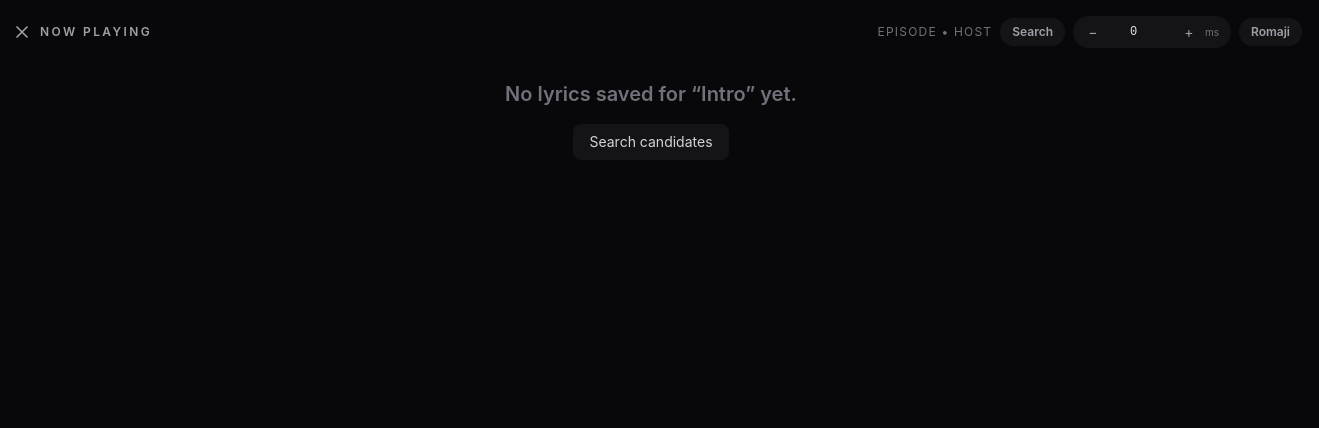
LyricsSheet chapter save flow › shows the saved lyrics even when the fetch keeps failing
This screenshot has width=1319, height=428.
Expected: the text "No lyrics saved for “Intro” yet." is shown, [505, 80, 797, 108]
Click the button "Search candidates".
click(651, 142)  # box [574, 124, 729, 160]
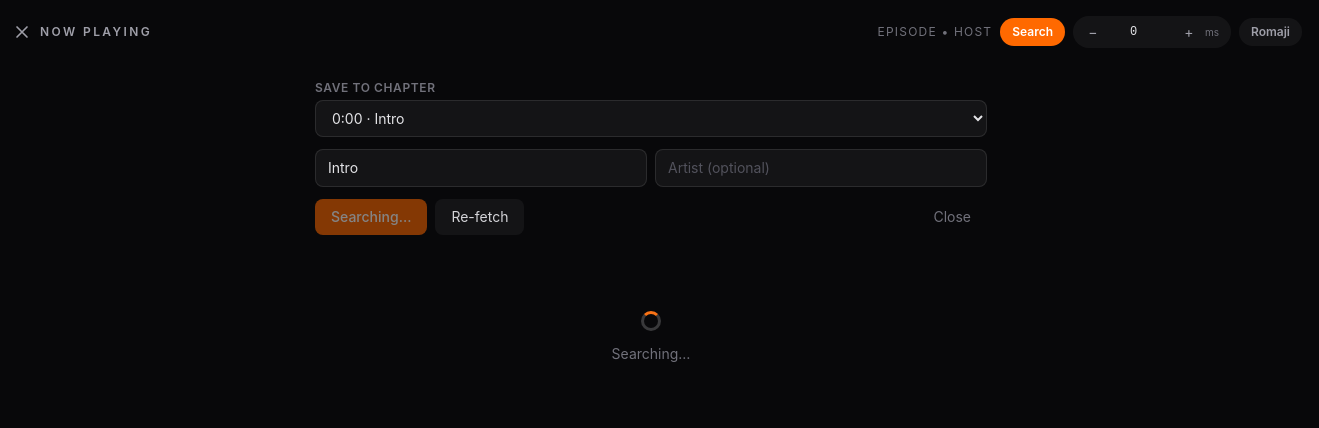
Select "1:00 · Main" in the dropdown named "Save lyrics to chapter" at (651, 118), box [315, 100, 987, 137]
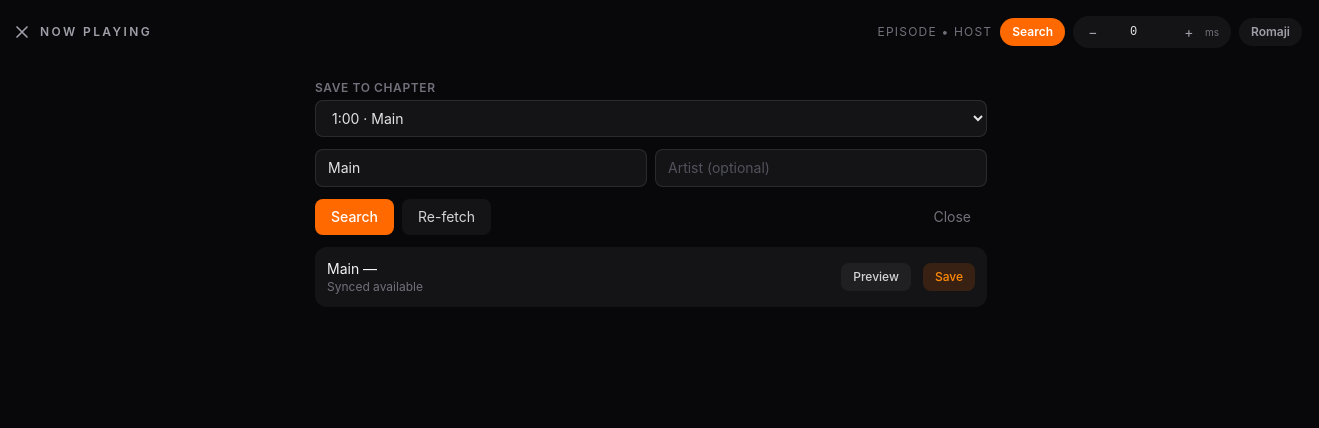
Click the button "Save".
click(949, 277)  # box [923, 263, 975, 291]
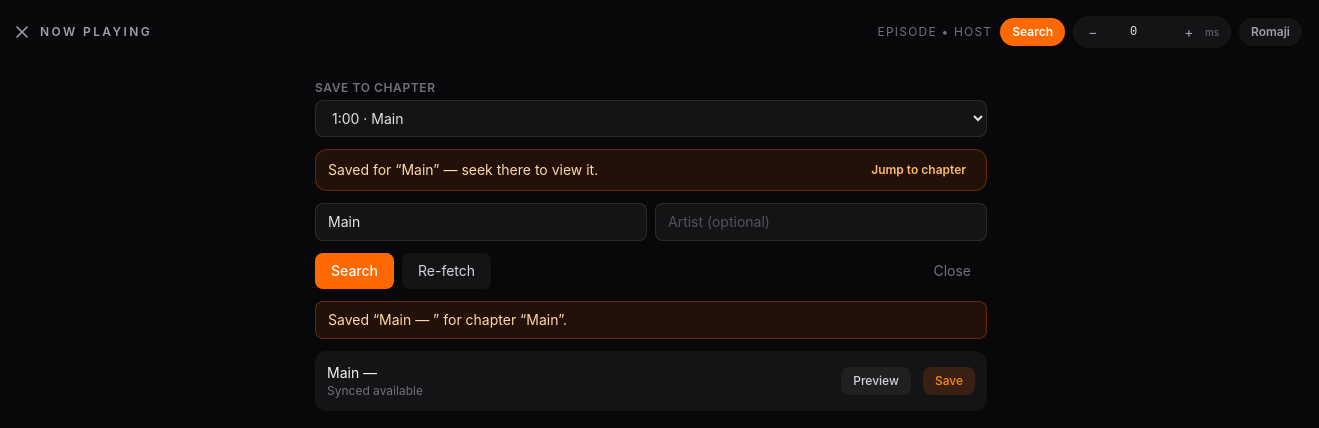
Click the button "Jump to chapter".
click(919, 170)  # box [863, 158, 974, 182]
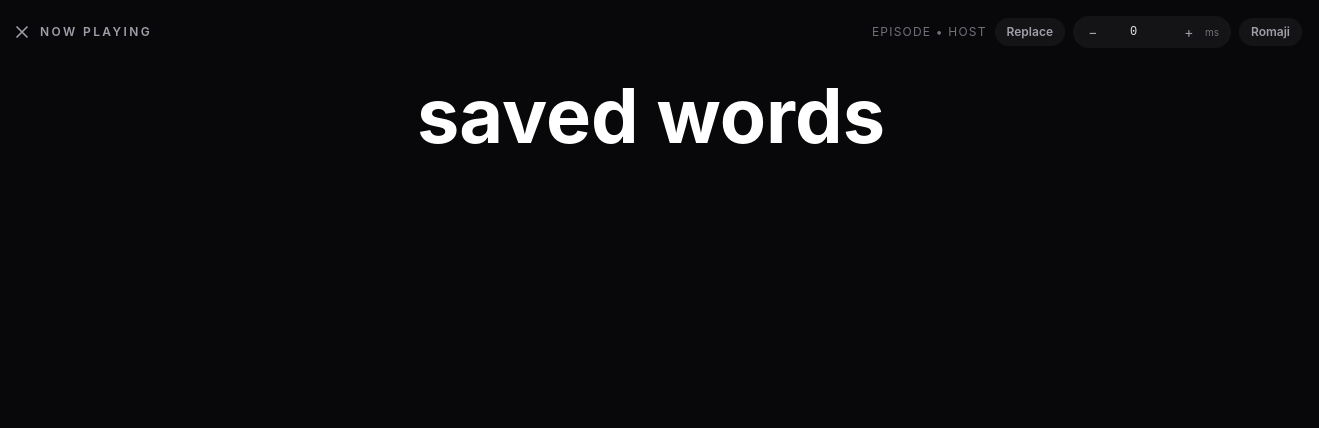
Result: the text "saved words" is shown at [417, 80, 885, 161]
